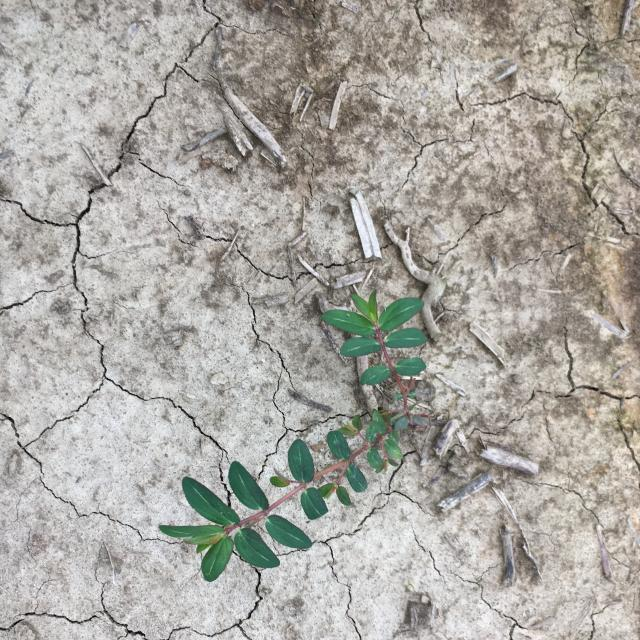SpottedSpurge: (158, 290, 430, 582)
